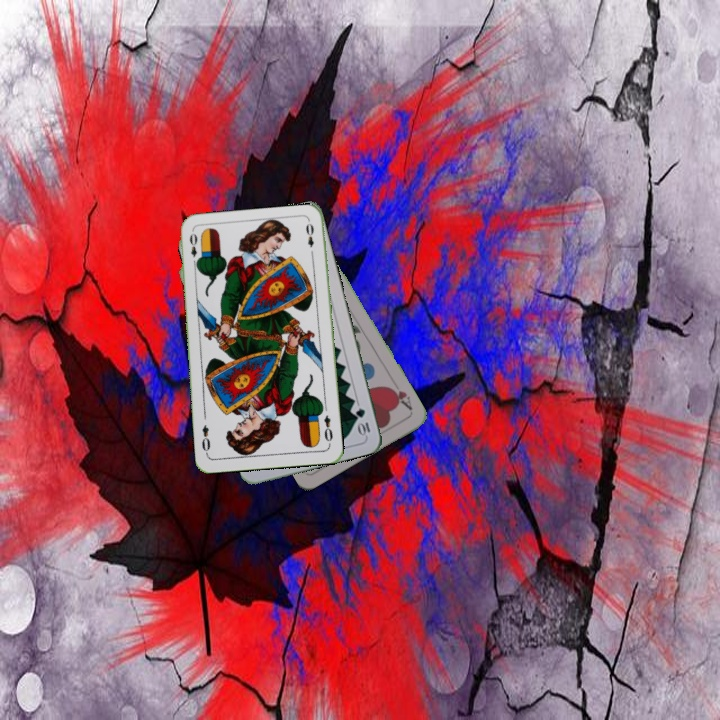EO: (185, 229, 202, 269), (320, 411, 335, 444)
G10: (352, 404, 373, 438)
HA: (385, 382, 415, 413)
